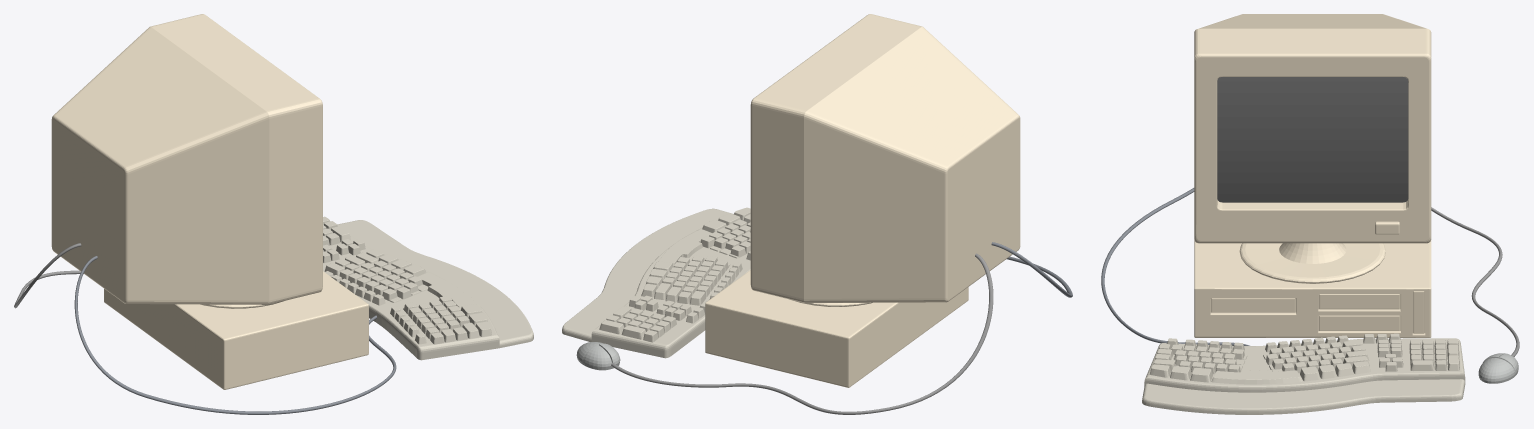
The model's file is Computer.glb.
The picture shows the model from 3 angles, left to right: view 1: azimuth 30°, elevation 25°; view 2: azimuth 150°, elevation 25°; view 3: azimuth 270°, elevation 25°; orthographic projection.
Visible parts, largest first — view 1: Computer, Key Board, Keyboard wire, Mouse wire; view 2: Computer, Key Board, Mouse wire, Mouse, Keyboard wire; view 3: Computer, Screen, Key Board, Keyboard wire, Mouse, Mouse wire.
Part boxes in pixels (left/top/right/bottom): Computer: left=51, top=14, right=368, bottom=389; Key Board: left=323, top=216, right=533, bottom=360; Keyboard wire: left=74, top=256, right=396, bottom=414; Mouse wire: left=14, top=243, right=81, bottom=308; Computer: left=705, top=14, right=1020, bottom=387; Key Board: left=562, top=207, right=750, bottom=358; Mouse wire: left=611, top=253, right=993, bottom=414; Mouse: left=576, top=342, right=620, bottom=370; Keyboard wire: left=991, top=242, right=1072, bottom=297; Computer: left=1194, top=14, right=1431, bottom=337; Screen: left=1217, top=77, right=1408, bottom=202; Key Board: left=1142, top=333, right=1465, bottom=414; Keyboard wire: left=1101, top=188, right=1249, bottom=345; Mouse: left=1478, top=353, right=1518, bottom=383; Mouse wire: left=1431, top=207, right=1519, bottom=356.
Size of the model in its own units: 4.04 by 2.44 by 3.53.
